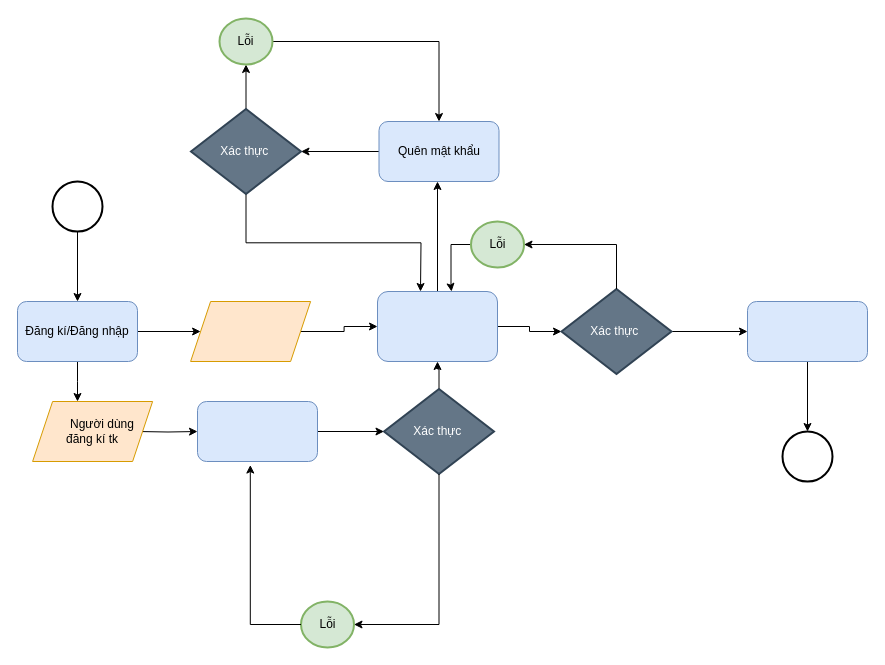
Some shapes in this 885 by 665 pixel diagram are drawn without their labels. The shapes that lost their labels are listed below. From the top down, each one's centre as x and y in pixels, then its label:
(250,331): Người dùng chọn đăng nhập
(437,326): Đăng nhâpl
(807,331): Trang chủ
(257,431): Đăng kí
